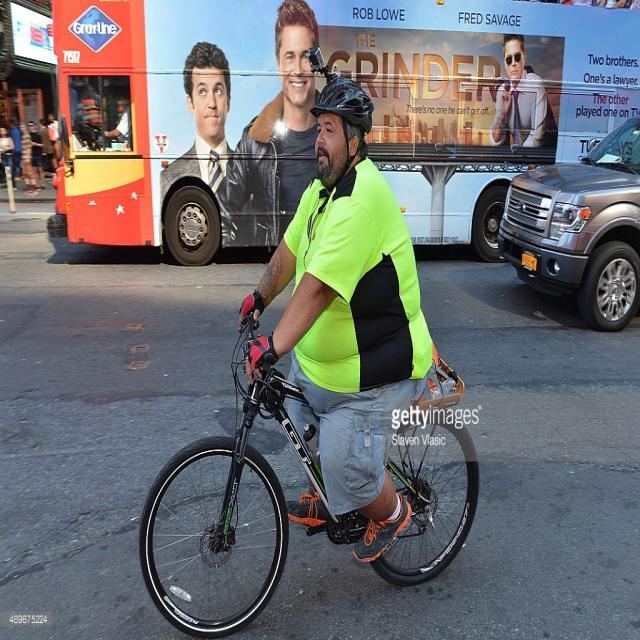body: (236, 73, 434, 565), (240, 68, 374, 566), (157, 40, 257, 248), (488, 32, 549, 151), (103, 89, 133, 150), (18, 118, 40, 200), (36, 118, 58, 184), (26, 120, 46, 191), (0, 123, 19, 194), (8, 118, 23, 184), (556, 0, 638, 10), (46, 111, 62, 141)
